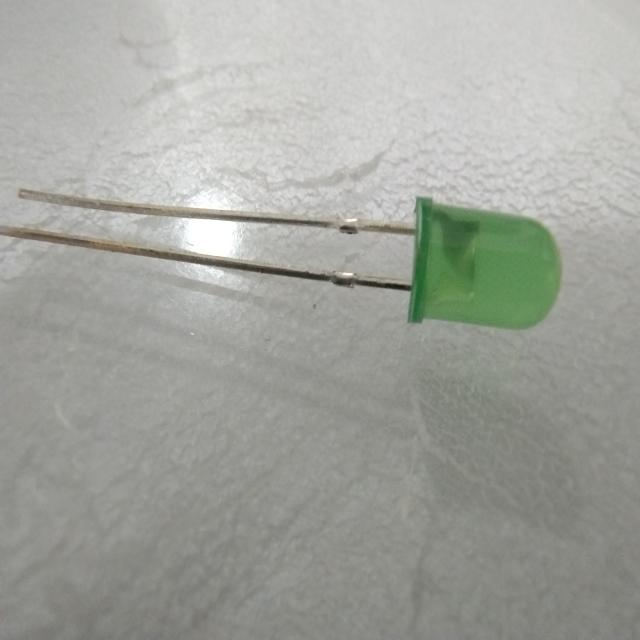green_led: (402, 182, 572, 355)
